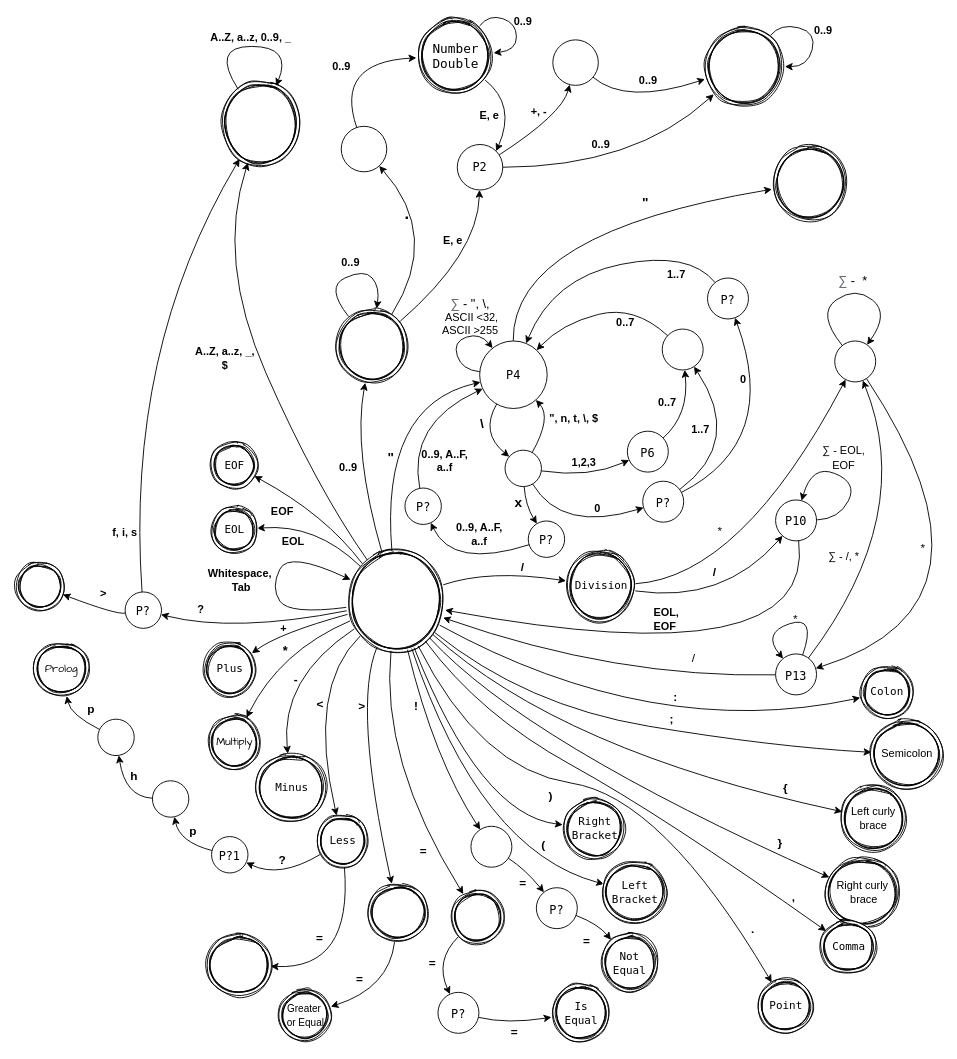
Image size: 957x1059. Some labels were removed from this diagram. The centre of each missing label's shape, as x and y in pixels:
End: (39,585)
Equal Sign: (477,917)
Greater: (398,912)
ID or Keyword: (260,123)
Less or Equal: (238,964)
Number: (372,345)
Number Exponent: (743,66)
P1: (363,148)
P12: (855,361)
P15: (491,846)
P3: (575,62)
P5: (522,468)
P8: (682,349)
P?2: (170,798)
P?3: (115,737)
START: (395,600)
String: (809,182)
